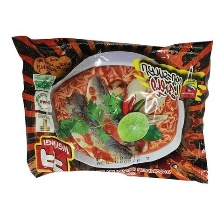snack: (6, 30, 218, 190)
